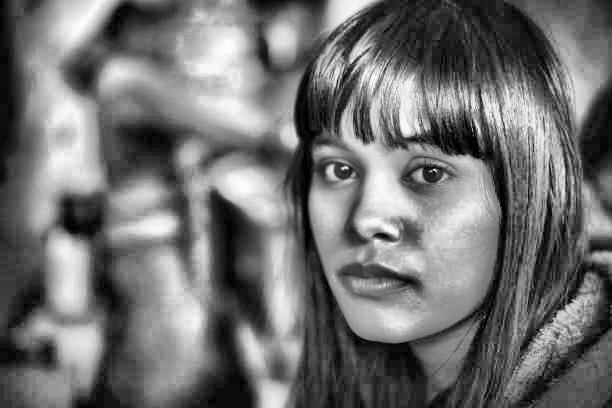sad: (306, 109, 521, 346)
